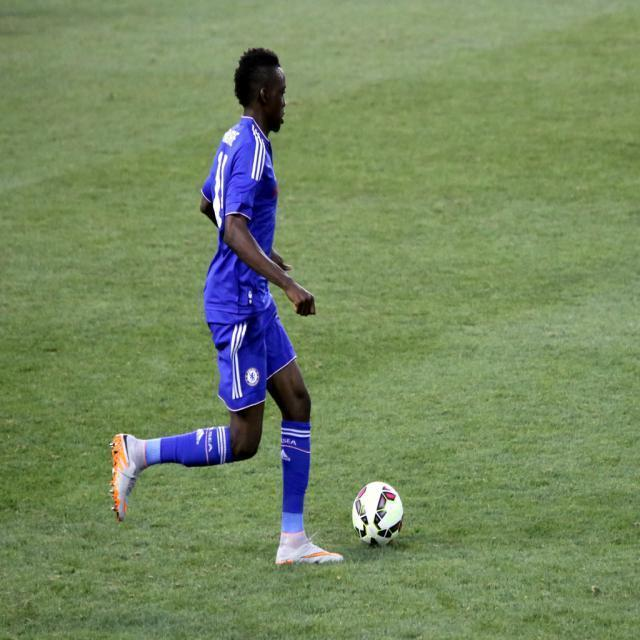ball: (351, 481, 403, 549)
